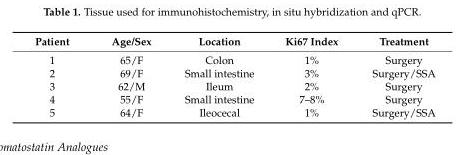table: (34, 34, 434, 118)
table column: (167, 34, 268, 118), (268, 34, 354, 118), (354, 34, 434, 118), (89, 34, 167, 118), (34, 34, 89, 118)
table column header: (34, 34, 434, 50)
table row: (34, 34, 434, 50), (34, 50, 434, 66), (34, 66, 434, 79), (34, 79, 434, 92), (34, 92, 434, 105), (34, 105, 434, 118)
